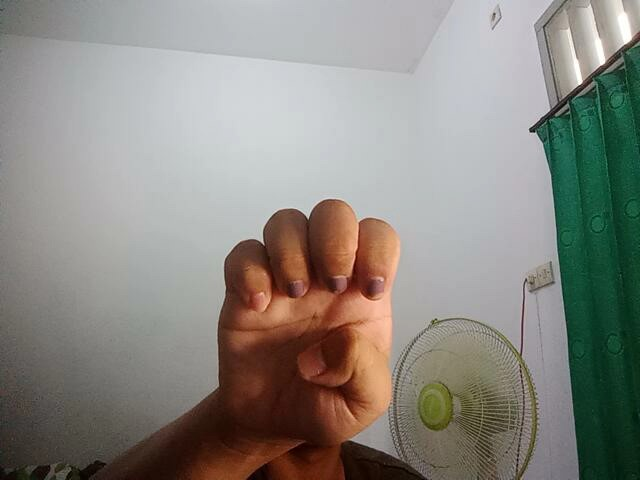E: (202, 192, 408, 448)
